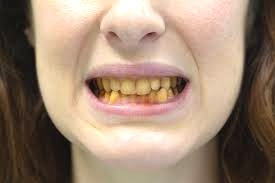Tooth Discoloration: (95, 77, 181, 104)
